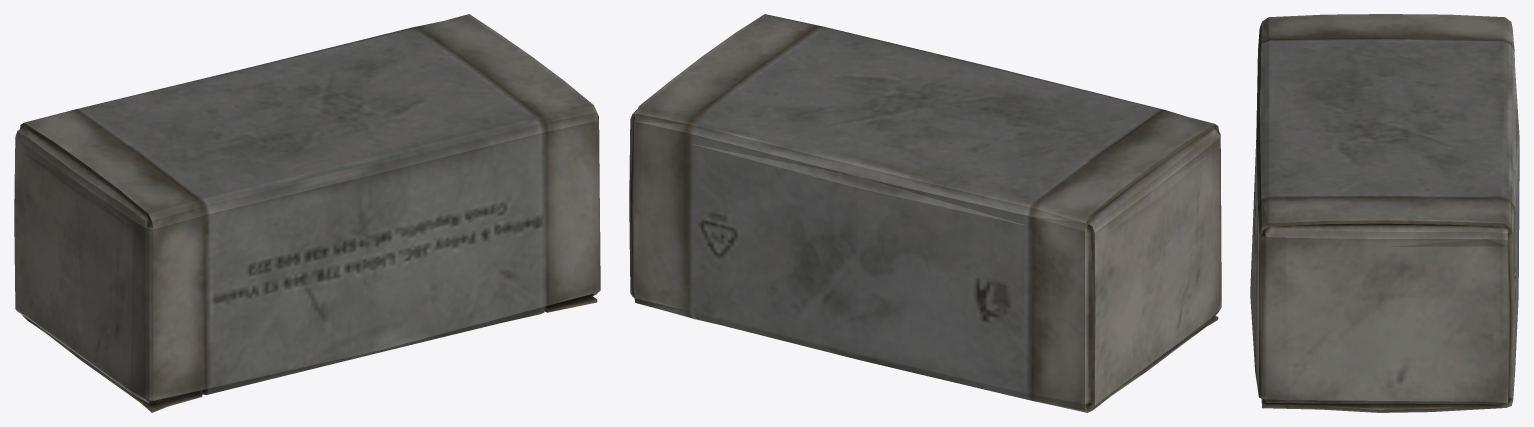
3 views of the same model, side by side, from view 1: azimuth 30°, elevation 25°; view 2: azimuth 150°, elevation 25°; view 3: azimuth 270°, elevation 25° (orthographic). The views are drawn at different scales.
Visible parts, largest first — view 1: TW_657024cecfc010a0f5006a0a_PZ_Import; view 2: TW_657024cecfc010a0f5006a0a_PZ_Import; view 3: TW_657024cecfc010a0f5006a0a_PZ_Import.
Part boxes in pixels (x1,y1,x2,y2): TW_657024cecfc010a0f5006a0a_PZ_Import: [14, 14, 600, 412]; TW_657024cecfc010a0f5006a0a_PZ_Import: [629, 14, 1221, 412]; TW_657024cecfc010a0f5006a0a_PZ_Import: [1250, 14, 1519, 412].
Size of the model in its own units: 0.0466 by 0.0247 by 0.0195.
Materials: 1 (1 with a texture image).
